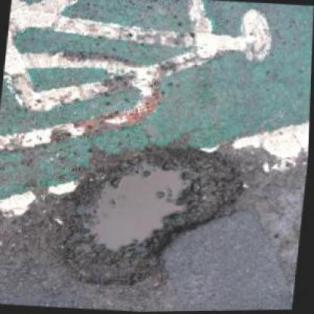Hueco: (49, 135, 252, 295)
